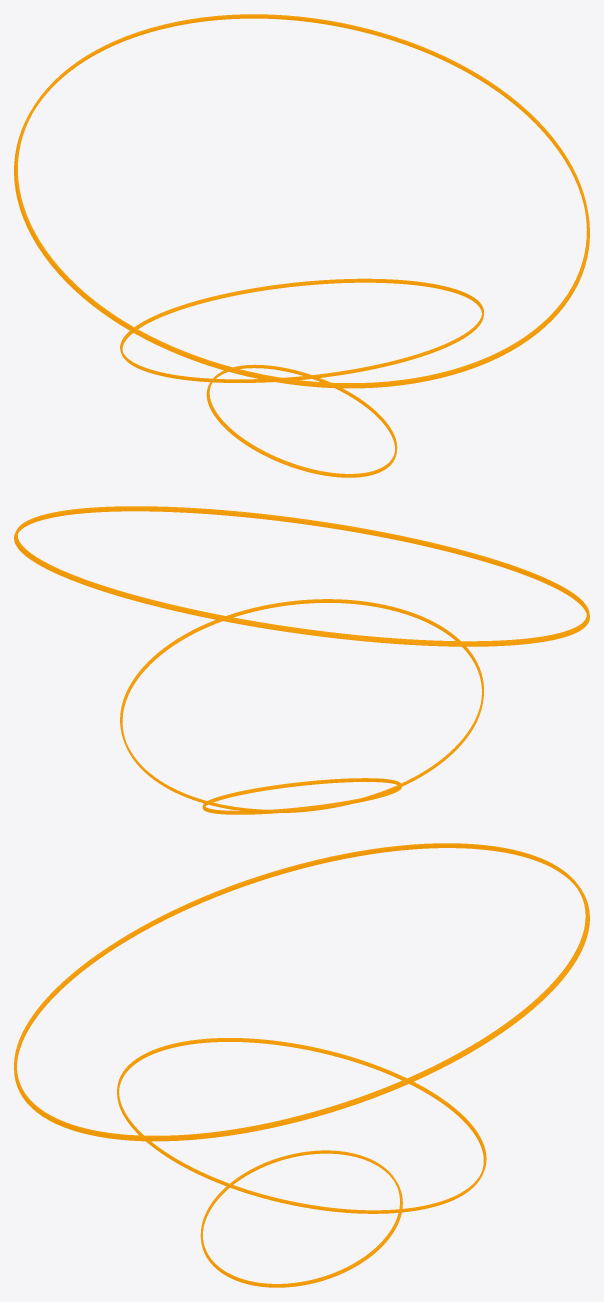
Rendered from rings.glb.
3 renders of one model, top to bottom at view 1: azimuth 30°, elevation 25°; view 2: azimuth 150°, elevation 25°; view 3: azimuth 270°, elevation 25°, orthographic. The views are drawn at different scales.
Visible parts, largest first — view 1: ring3, ring4, ring5; view 2: ring3, ring4, ring5; view 3: ring3, ring4, ring5.
Part boxes in pixels (x1=…): ring3: x1=14, y1=14, x2=589, y2=388; ring4: x1=120, y1=278, x2=483, y2=382; ring5: x1=206, y1=364, x2=397, y2=477; ring3: x1=14, y1=506, x2=589, y2=646; ring4: x1=120, y1=599, x2=483, y2=812; ring5: x1=202, y1=778, x2=401, y2=814; ring3: x1=14, y1=843, x2=589, y2=1141; ring4: x1=117, y1=1038, x2=486, y2=1213; ring5: x1=200, y1=1150, x2=402, y2=1287.
Bounding box in the file's own units: 2.94 × 1.81 × 2.82.
